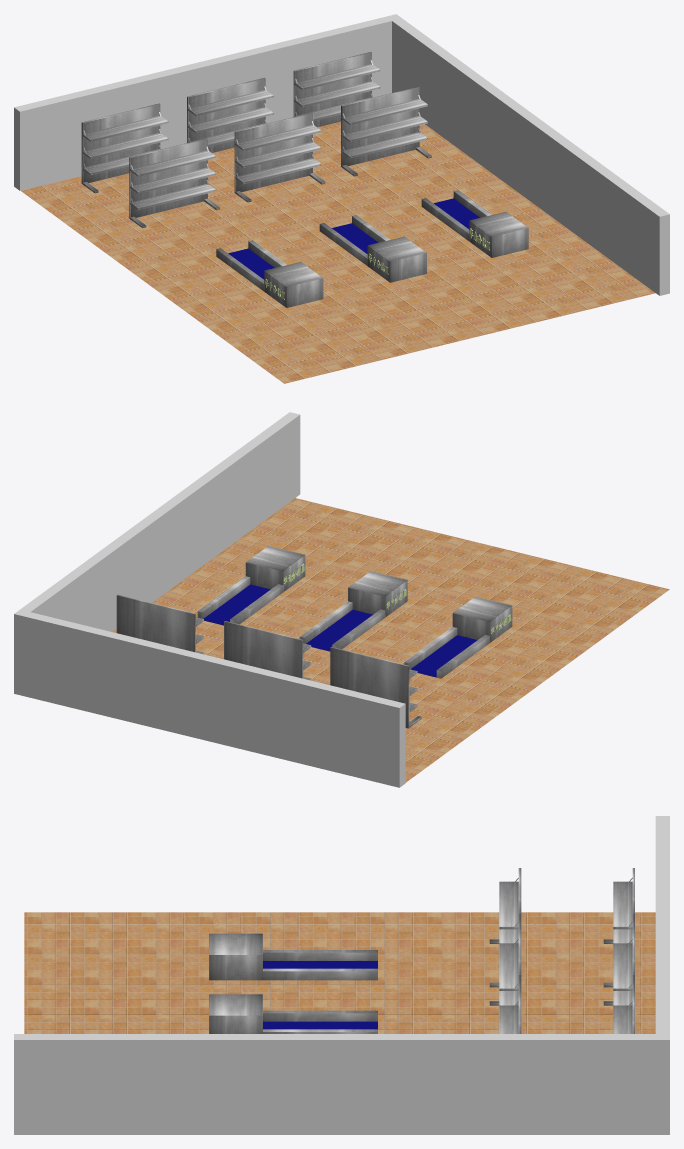
File: 仓库无缩放.obj
3 renders of one model, top to bottom at view 1: azimuth 30°, elevation 25°; view 2: azimuth 150°, elevation 25°; view 3: azimuth 270°, elevation 25°, orthographic. The views are drawn at different scales.
Parts seen in each view (by area): view 1: Plane001, Box004, Box005, Box007, Box006, Box008, Box001, Box003, Box002, Rectangle031, Rectangle050, Rectangle027 (+21 smaller); view 2: Plane001, Box005, Box004, Box006, Box008, Box007, Rectangle050, Rectangle031, Rectangle027, Rectangle048, Rectangle028, Rectangle024 (+6 smaller); view 3: Box004, Plane001, Box005, Rectangle050, Rectangle031, Rectangle049, Rectangle030, Rectangle047, Rectangle028, Rectangle035, Rectangle005, Rectangle013 (+5 smaller).
Boxes of the visible parts, bbox=[...] form: Plane001: bbox=[21, 121, 655, 383]; Box004: bbox=[386, 14, 669, 295]; Box005: bbox=[14, 14, 400, 190]; Box007: bbox=[234, 112, 313, 193]; Box006: bbox=[129, 138, 207, 218]; Box008: bbox=[341, 86, 419, 167]; Box001: bbox=[81, 103, 160, 184]; Box003: bbox=[293, 52, 372, 127]; Box002: bbox=[187, 77, 265, 152]; Rectangle031: bbox=[367, 236, 426, 282]; Rectangle050: bbox=[264, 262, 323, 307]; Rectangle027: bbox=[469, 211, 528, 257]; Plane001: bbox=[112, 498, 669, 782]; Box005: bbox=[14, 612, 405, 787]; Box004: bbox=[14, 412, 300, 693]; Box006: bbox=[330, 647, 409, 728]; Box008: bbox=[116, 594, 195, 652]; Box007: bbox=[224, 621, 303, 678]; Rectangle050: bbox=[452, 596, 512, 642]; Rectangle031: bbox=[348, 571, 407, 616]; Rectangle027: bbox=[245, 546, 305, 591]; Rectangle048: bbox=[410, 635, 477, 677]; Rectangle028: bbox=[306, 609, 372, 651]; Rectangle024: bbox=[203, 584, 270, 625]; Box004: bbox=[14, 1034, 669, 1134]; Plane001: bbox=[24, 912, 655, 1033]; Box005: bbox=[655, 816, 669, 1038]; Rectangle050: bbox=[209, 933, 262, 980]; Rectangle031: bbox=[209, 994, 262, 1033]; Rectangle049: bbox=[261, 968, 377, 980]; Rectangle030: bbox=[263, 1010, 377, 1021]; Rectangle047: bbox=[263, 950, 377, 960]; Rectangle028: bbox=[263, 1021, 377, 1029]; Rectangle035: bbox=[499, 881, 518, 929]; Rectangle005: bbox=[613, 881, 632, 929]; Rectangle013: bbox=[613, 943, 632, 990].
Size of the model in its own units: 4383 by 887 by 5430.
